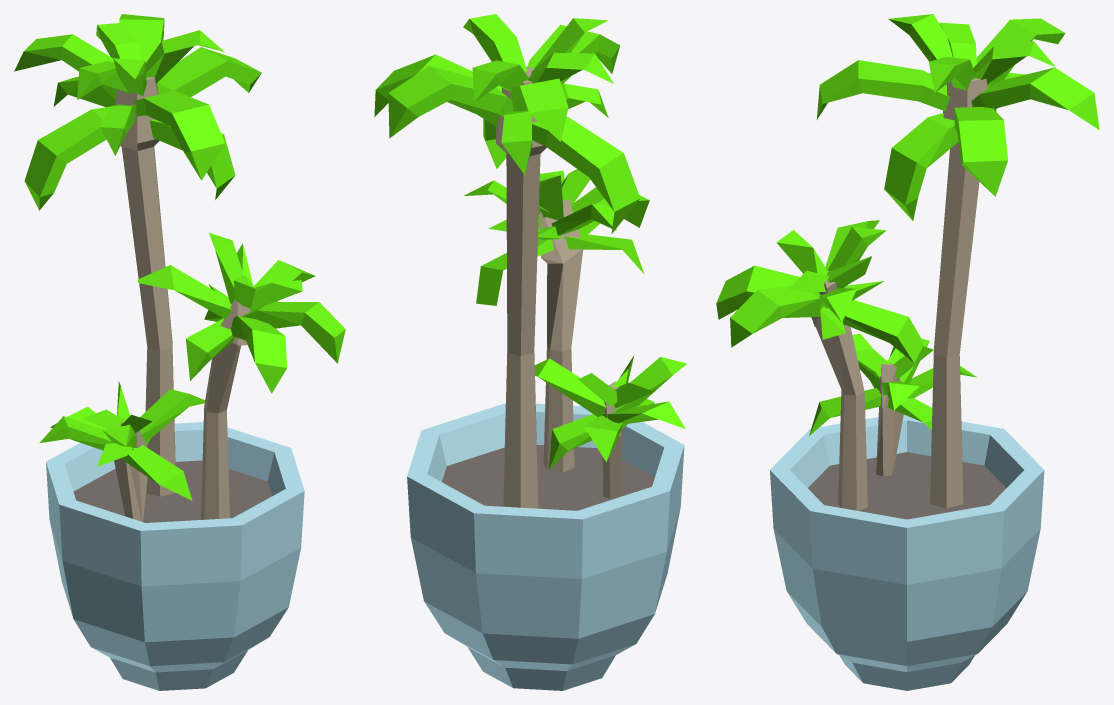
Rendered from PlantBank_01.fbx.
3 views of the same model, side by side, from view 1: azimuth 30°, elevation 25°; view 2: azimuth 150°, elevation 25°; view 3: azimuth 270°, elevation 25° (orthographic). The views are drawn at different scales.
Visible parts, largest first — view 1: SM_Prop_Plant_01; view 2: SM_Prop_Plant_01; view 3: SM_Prop_Plant_01.
Boxes of the visible parts, x1=… form: SM_Prop_Plant_01: x1=14, y1=14, x2=345, y2=690; SM_Prop_Plant_01: x1=374, y1=14, x2=686, y2=690; SM_Prop_Plant_01: x1=716, y1=14, x2=1099, y2=690.
Bounding box in the file's own units: 0.6485 × 1.51 × 0.8398.
